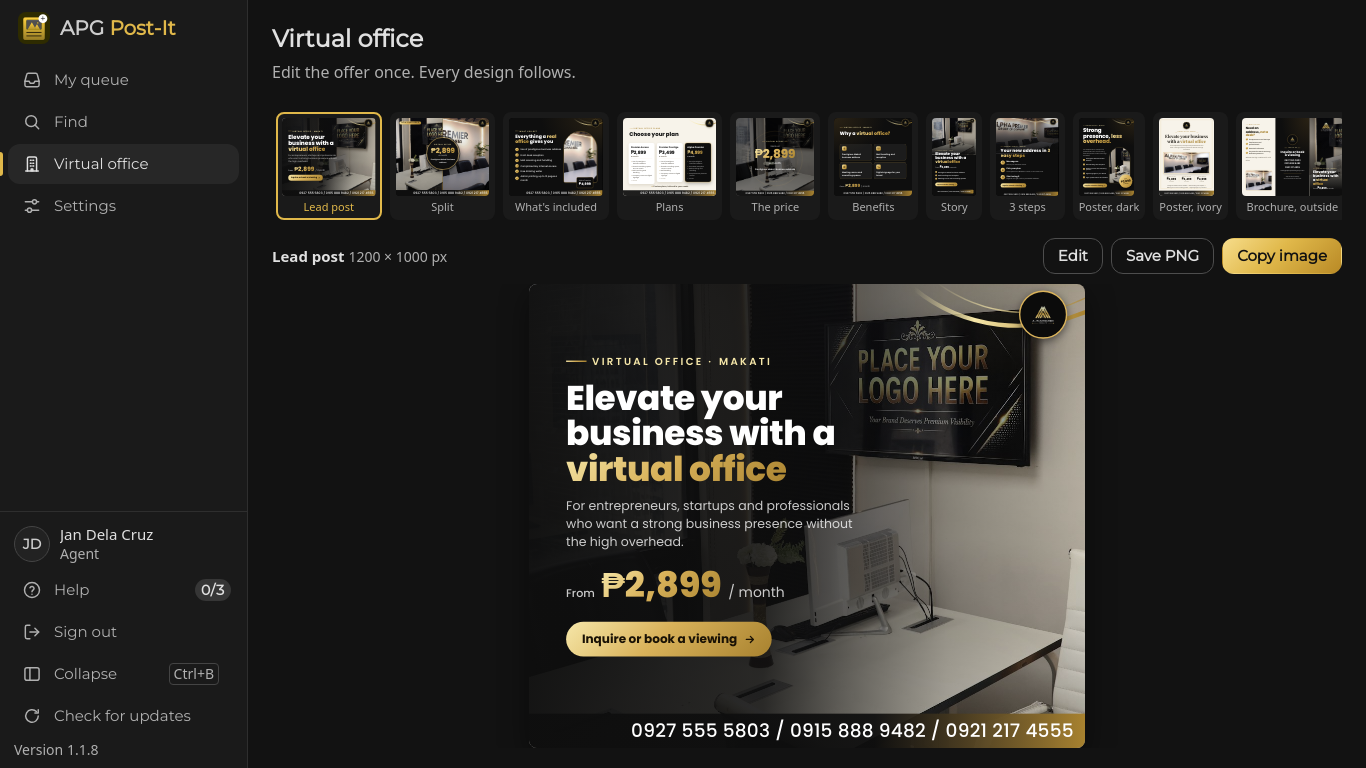
Test: Virtual office › saves the chosen design in its own folder
Click the button "Save PNG".
click(1162, 256)  # box [1111,238,1214,274]
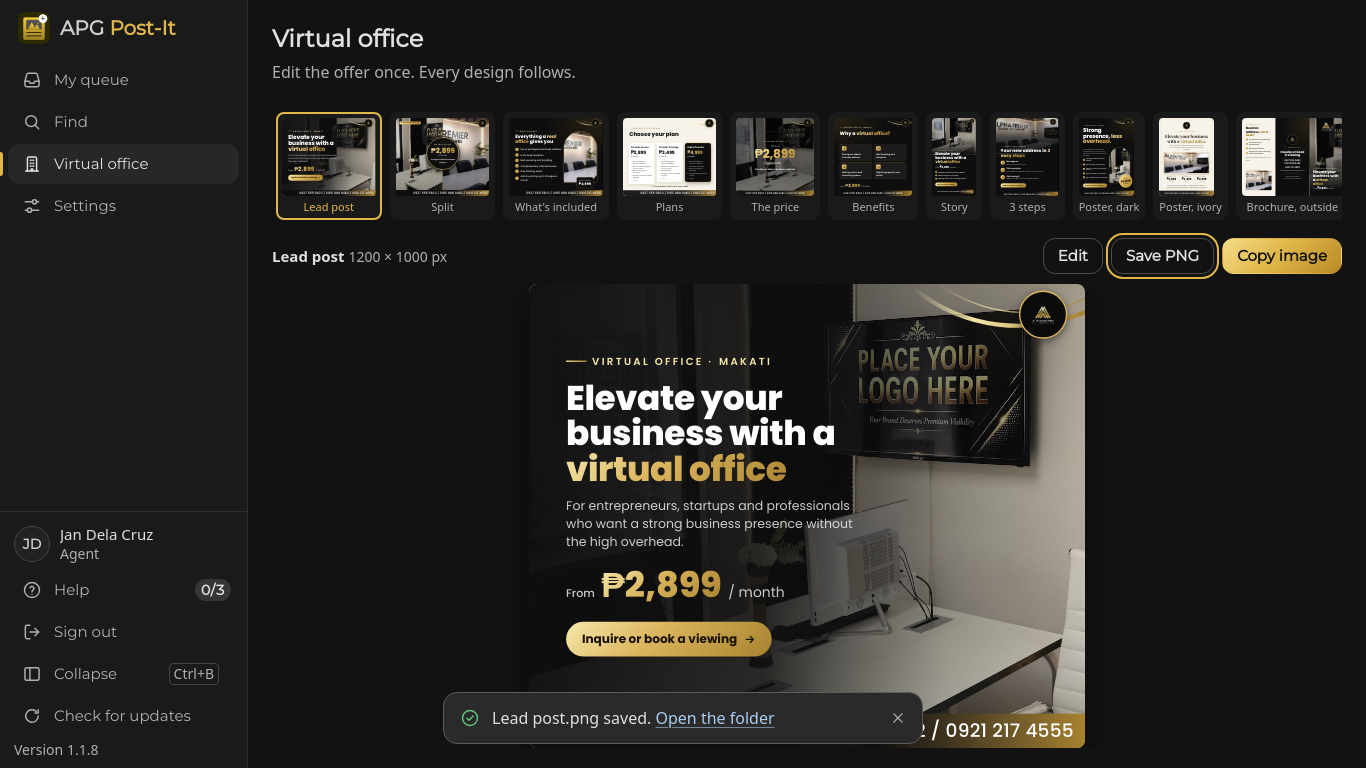
Expected: the text "Virtual office" below "Find" is shown, [54,154,148,173]
Result: the text "Lead post.png saved. Open the folder" is shown at [492,706,774,730]
